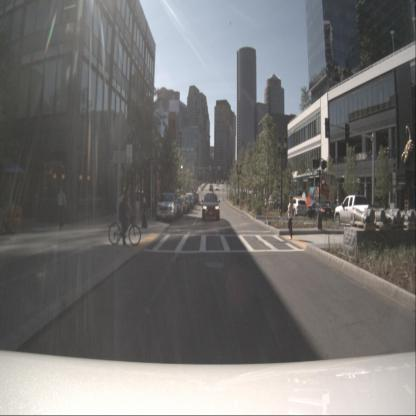human-pedestrian-adult: (56, 184, 67, 230), (0, 172, 6, 233), (286, 196, 294, 241)
movable_object-trafficcone: (264, 199, 270, 224), (239, 196, 242, 210), (232, 197, 235, 206)
vehicle-bicycle: (109, 188, 141, 246)
vehicle-bus-rigid: (285, 171, 337, 216)
vehicle-car: (156, 193, 178, 223), (202, 193, 220, 221), (306, 202, 334, 220), (286, 198, 306, 217), (170, 198, 184, 217), (176, 197, 187, 213), (179, 195, 190, 211), (274, 199, 286, 211), (184, 194, 193, 209), (186, 193, 194, 207), (266, 198, 276, 208), (192, 194, 200, 203), (209, 184, 213, 192)
vehicle-truck: (334, 194, 383, 230)
